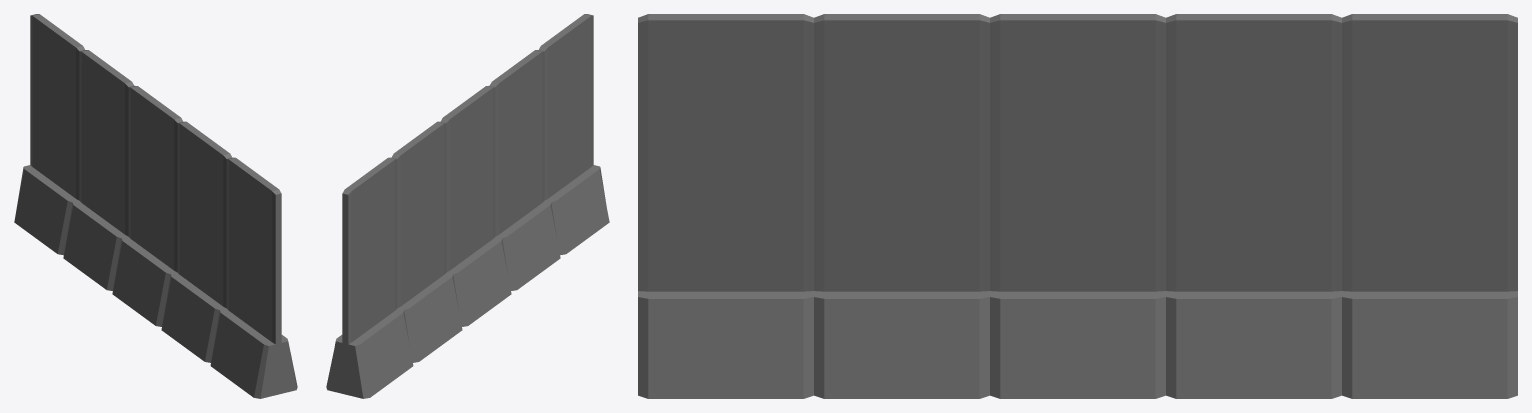
File: grandeBarriere.fbx
The picture shows the model from 3 angles, left to right: view 1: azimuth 30°, elevation 25°; view 2: azimuth 150°, elevation 25°; view 3: azimuth 270°, elevation 25°; orthographic projection. The views are drawn at different scales.
Parts seen in each view (by area): view 1: Cube.002; view 2: Cube.002; view 3: Cube.002.
Part boxes in pixels (<box>): Cube.002: <box>14,14,297,398</box>; Cube.002: <box>326,14,609,398</box>; Cube.002: <box>638,14,1517,398</box>.
Size of the model in its own units: 419 by 1844 by 4054.
Materials: 1 (1 with a texture image).
